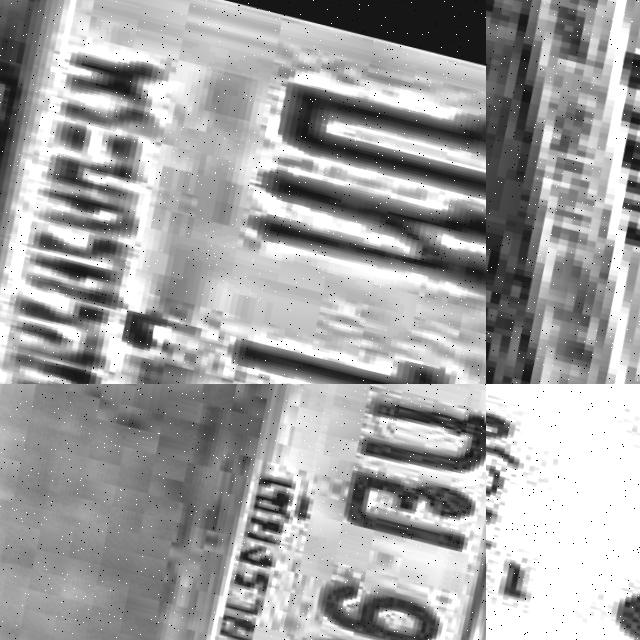license-plate: (0, 0, 486, 384), (112, 384, 486, 640), (486, 0, 640, 384), (486, 384, 640, 640)
